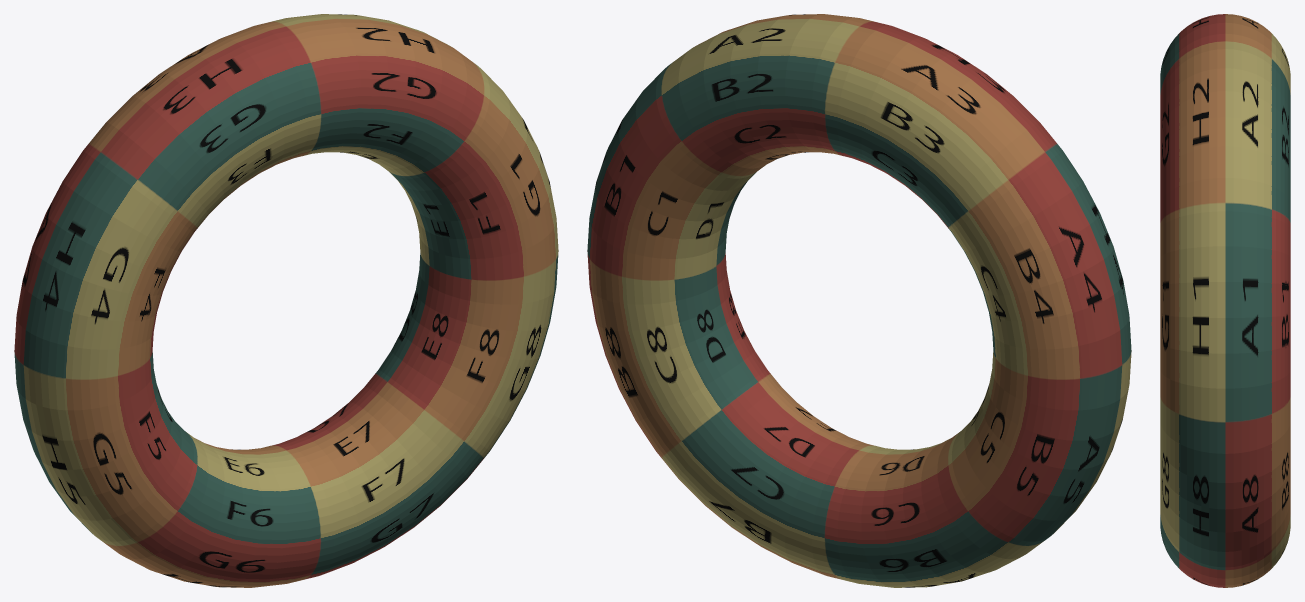
File: texture_torus_R25_r22.glb
3 renders of one model, left to right at view 1: azimuth 30°, elevation 25°; view 2: azimuth 150°, elevation 25°; view 3: azimuth 270°, elevation 25°, orthographic. The views are drawn at different scales.
Visible parts, largest first — view 1: world; view 2: world; view 3: world.
Boxes of the visible parts, <box> form: world: <box>14,14,558,587</box>; world: <box>587,14,1131,587</box>; world: <box>1160,14,1290,587</box>.
Bounding box in the file's own units: 34.53 × 34.47 × 7.85.
1 material, 1 textured.
